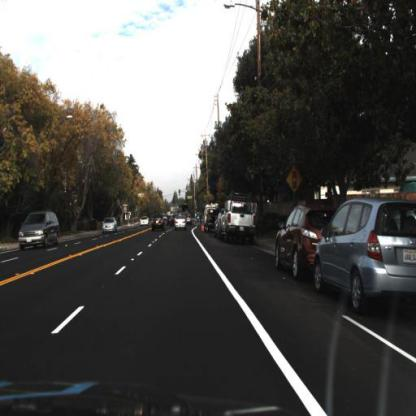car: (314, 197, 416, 315), (276, 201, 349, 281), (219, 193, 257, 243), (19, 211, 60, 253), (98, 210, 120, 238), (150, 210, 167, 235), (101, 215, 119, 238), (175, 216, 187, 234), (139, 211, 150, 229)
